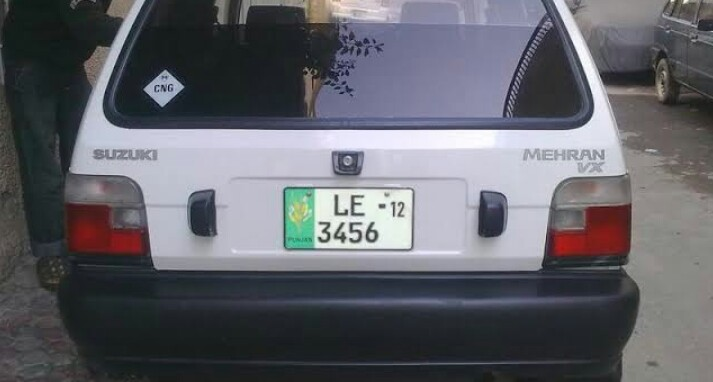license plate: (282, 188, 416, 253)
